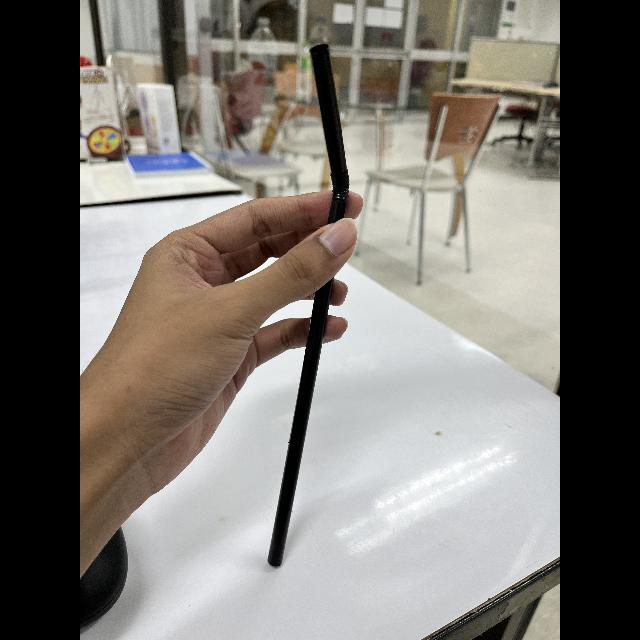straw: (268, 41, 352, 572)
